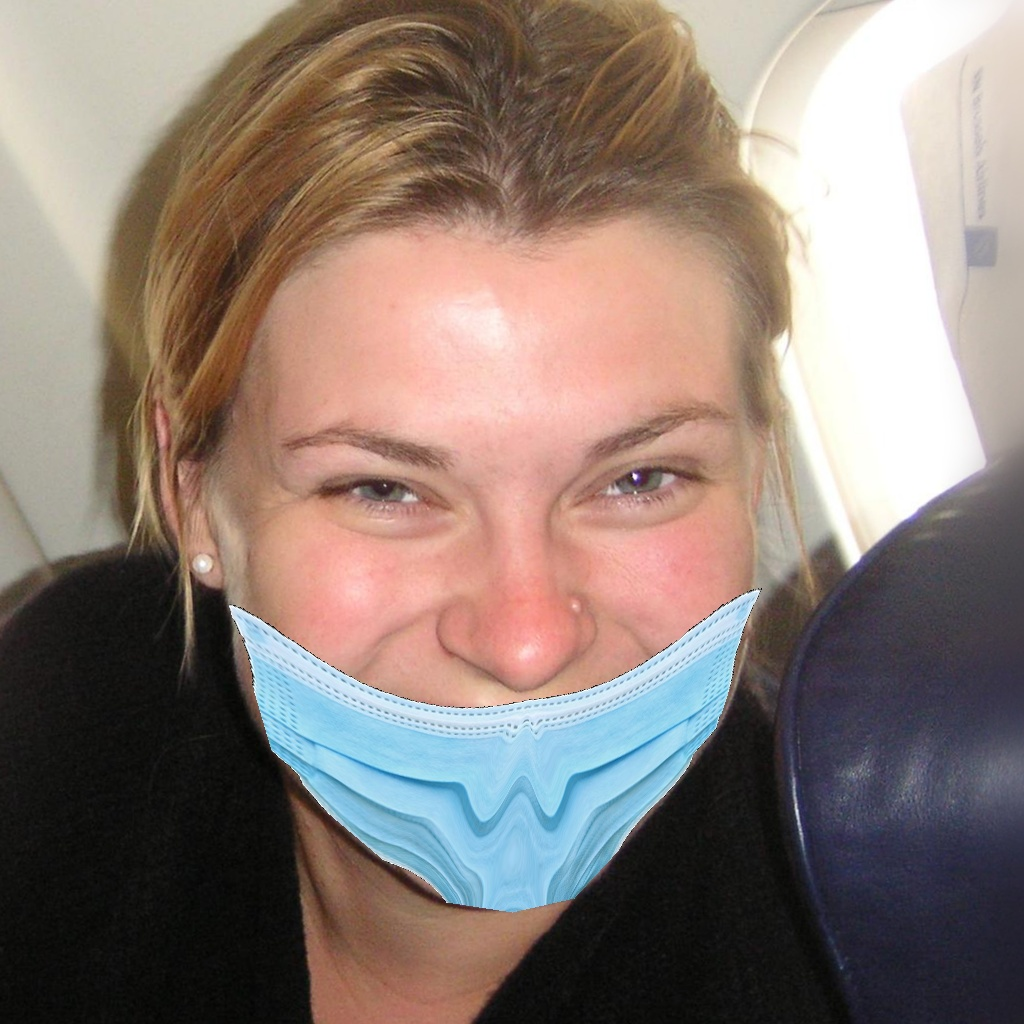mascarilla_mal_puesta: (184, 405, 769, 928)
